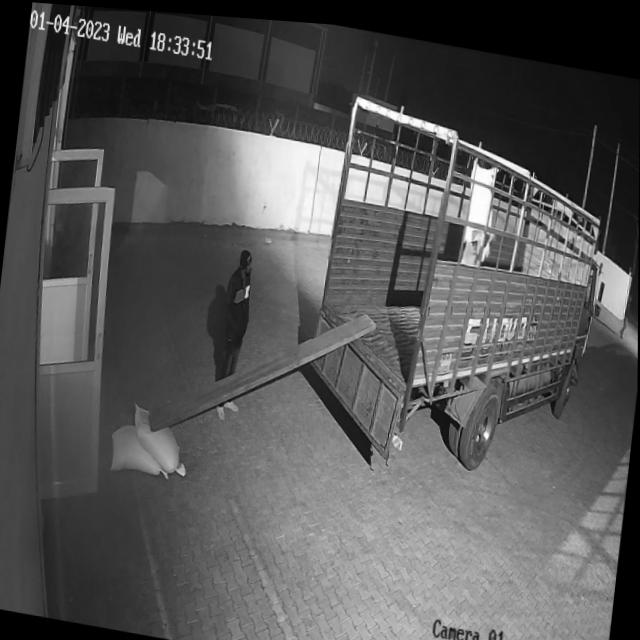sack: (126, 398, 193, 473), (107, 418, 172, 477), (463, 151, 501, 240)
